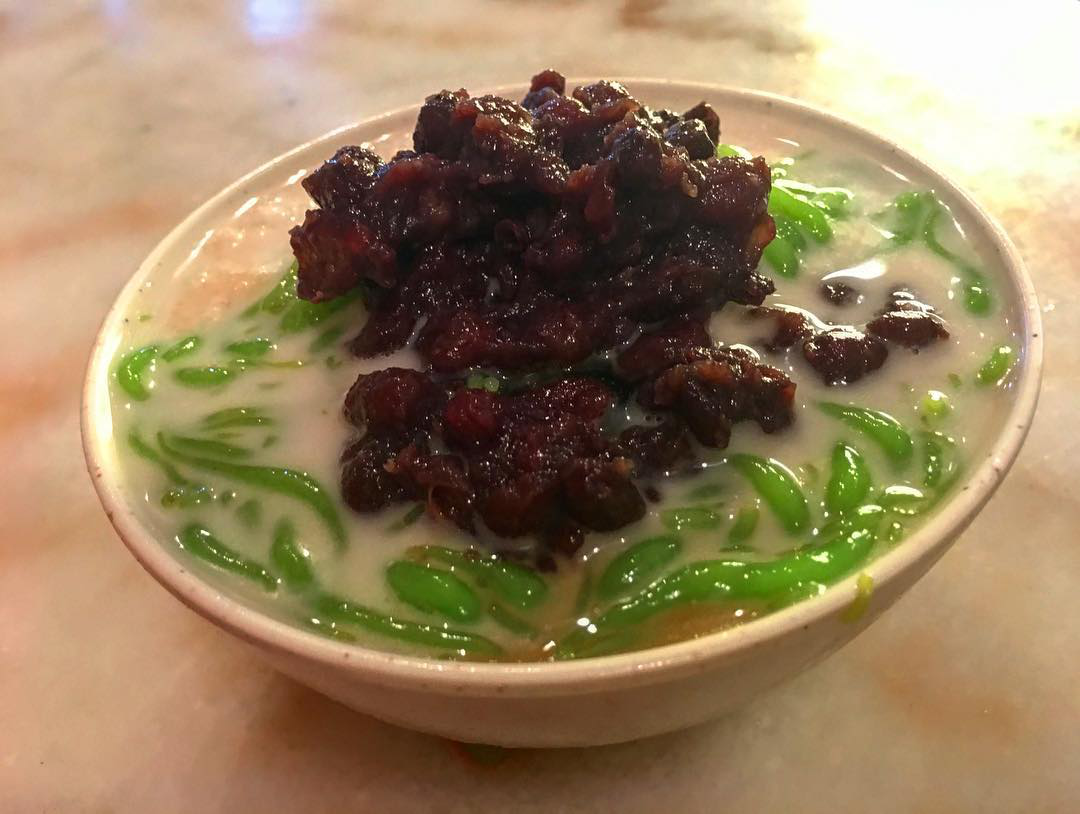Chendol: (111, 109, 1032, 698)
